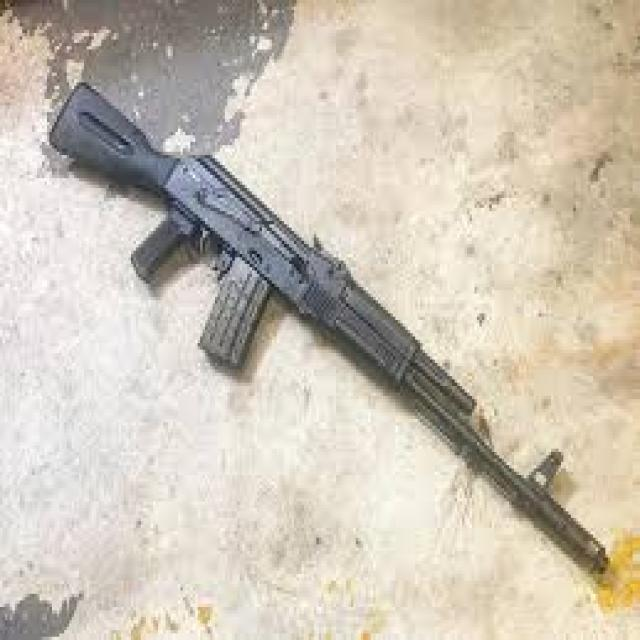Rifle: (49, 80, 611, 574)
